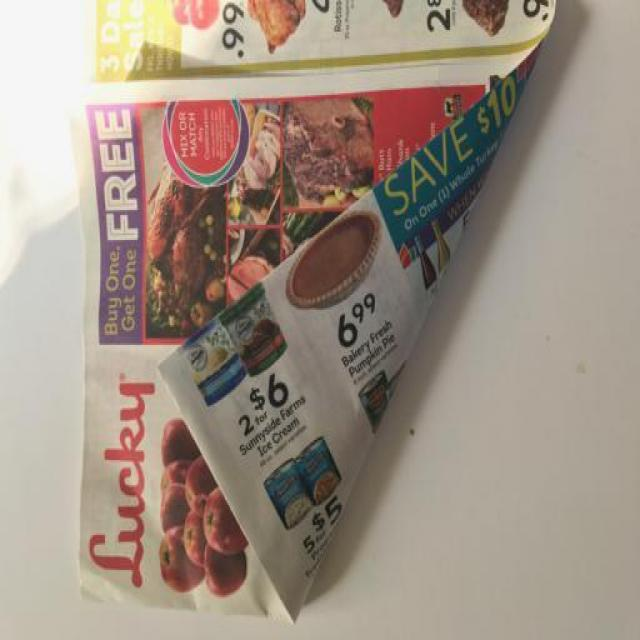paper: (42, 1, 621, 640)
